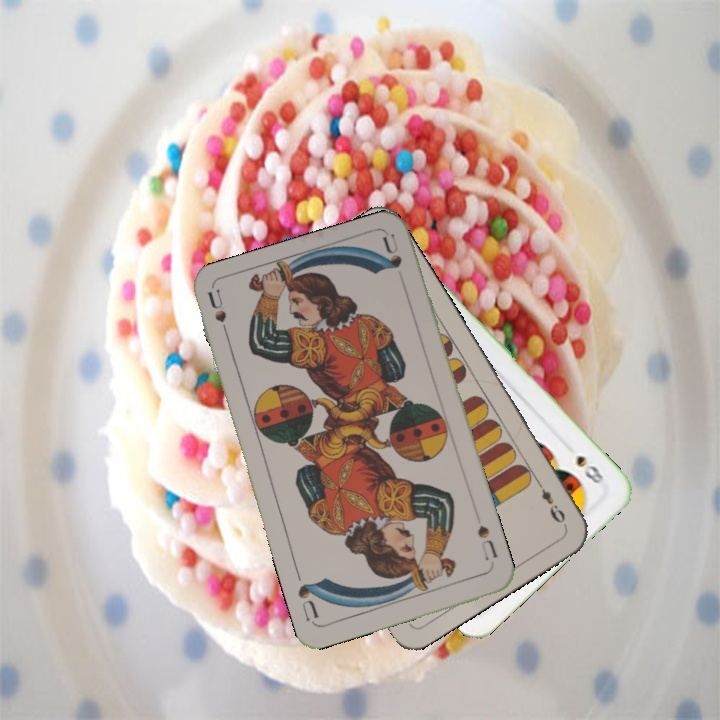E9: (532, 476, 568, 526)
S8: (572, 450, 607, 487)
SU: (204, 287, 233, 346), (473, 521, 500, 569)
